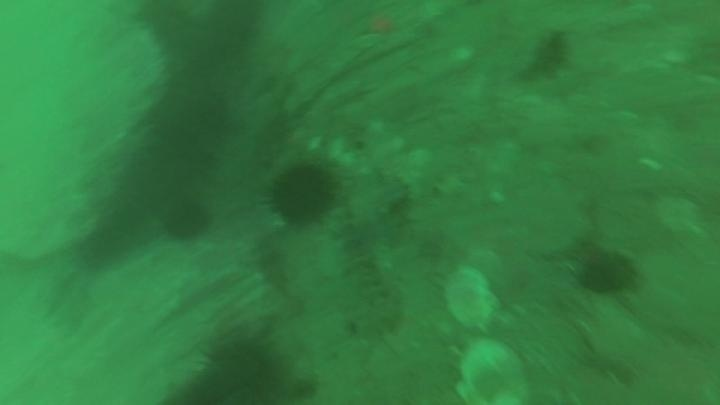echinus: (189, 336, 285, 405), (152, 90, 231, 163), (267, 162, 338, 227), (203, 1, 265, 53), (577, 250, 639, 297), (161, 197, 213, 243), (529, 29, 572, 80)
holothurian: (338, 190, 407, 338)
starfish: (354, 10, 405, 42)
